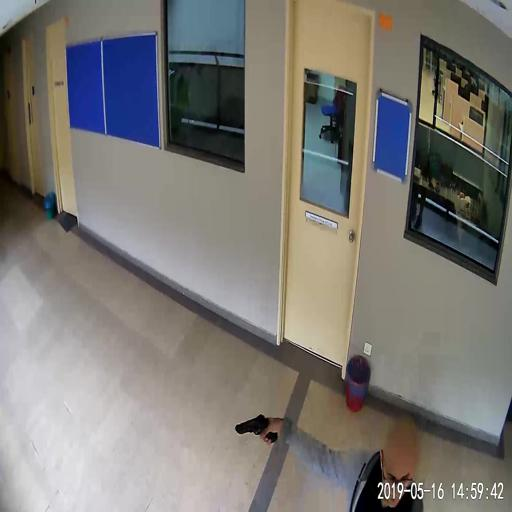pistol: (235, 413, 277, 445)
